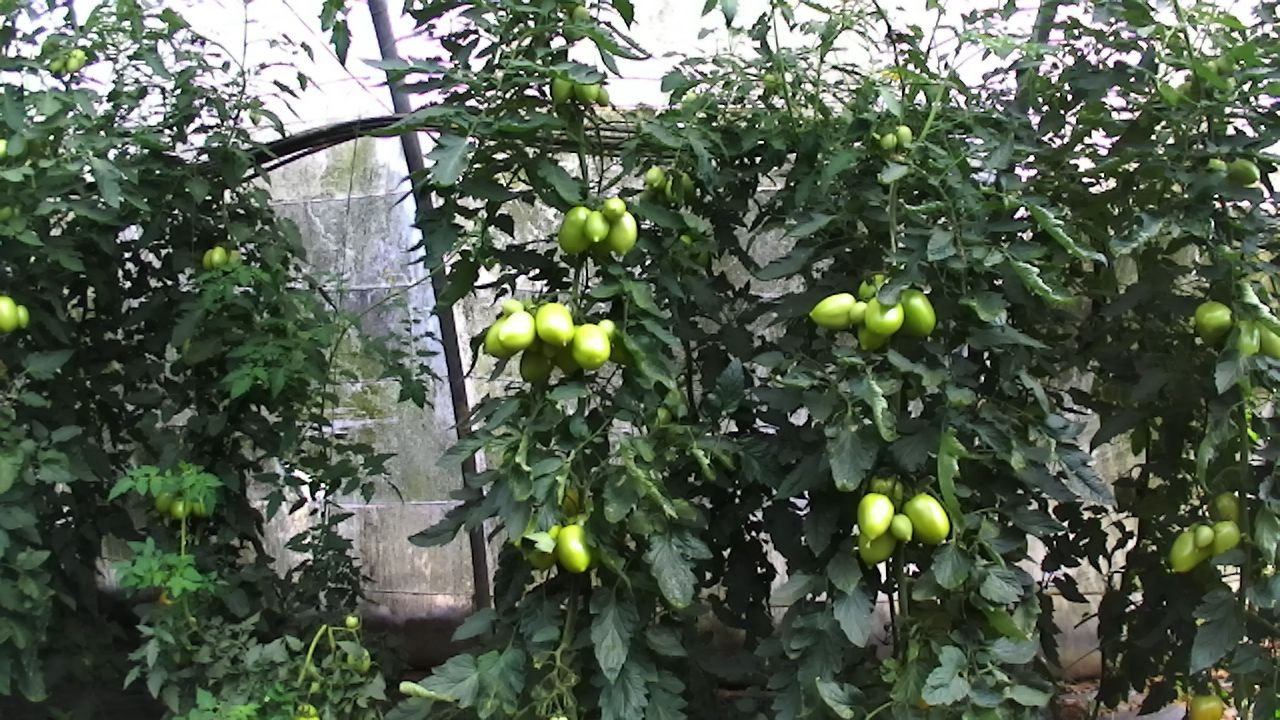tomato: (898, 489, 952, 547), (852, 518, 900, 571), (568, 321, 614, 371), (854, 490, 896, 544), (894, 286, 937, 338), (1166, 528, 1213, 575), (554, 521, 594, 576), (532, 299, 575, 349), (494, 307, 538, 354), (806, 290, 858, 329), (1192, 299, 1235, 342), (557, 204, 593, 255), (861, 295, 905, 336), (603, 209, 641, 255), (1225, 155, 1262, 185), (581, 208, 611, 244), (1187, 691, 1224, 720), (886, 511, 915, 546), (0, 294, 22, 334), (152, 485, 179, 516), (600, 195, 627, 224), (167, 493, 193, 522), (1192, 523, 1216, 551), (207, 243, 229, 270), (847, 299, 867, 324)
